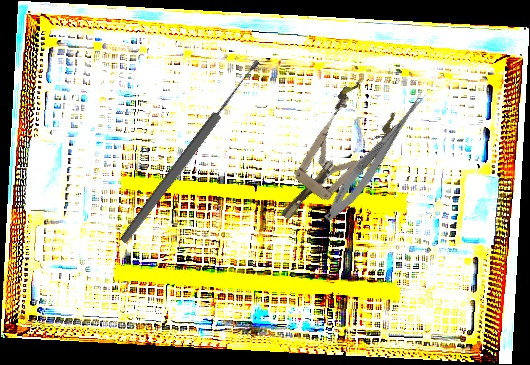Micro Scissor: (319, 84, 432, 228)
Speculum: (258, 77, 403, 237)
Surgical Spoon: (117, 57, 264, 246)
